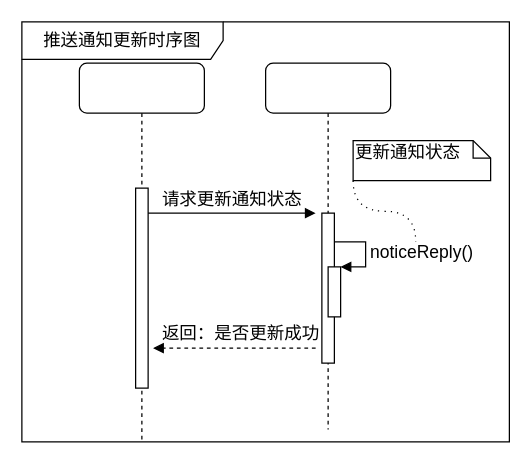
This 531x464 diagram has some shape labels left out. The shapes that lost their labels are listed below. From the top down, each one's box as (x1, y1, x2, y2) in pixels, then its label:
(78, 62, 204, 442): 一级平台
(264, 62, 391, 429): Access
